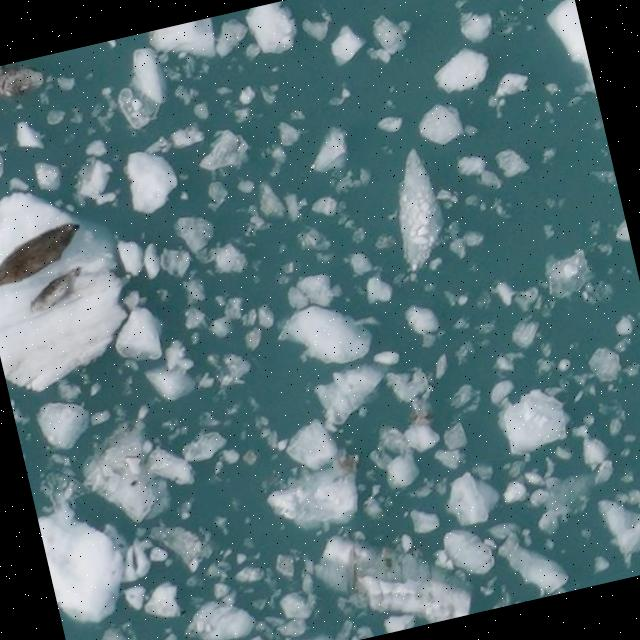seal: (0, 221, 79, 286), (33, 268, 80, 310)
